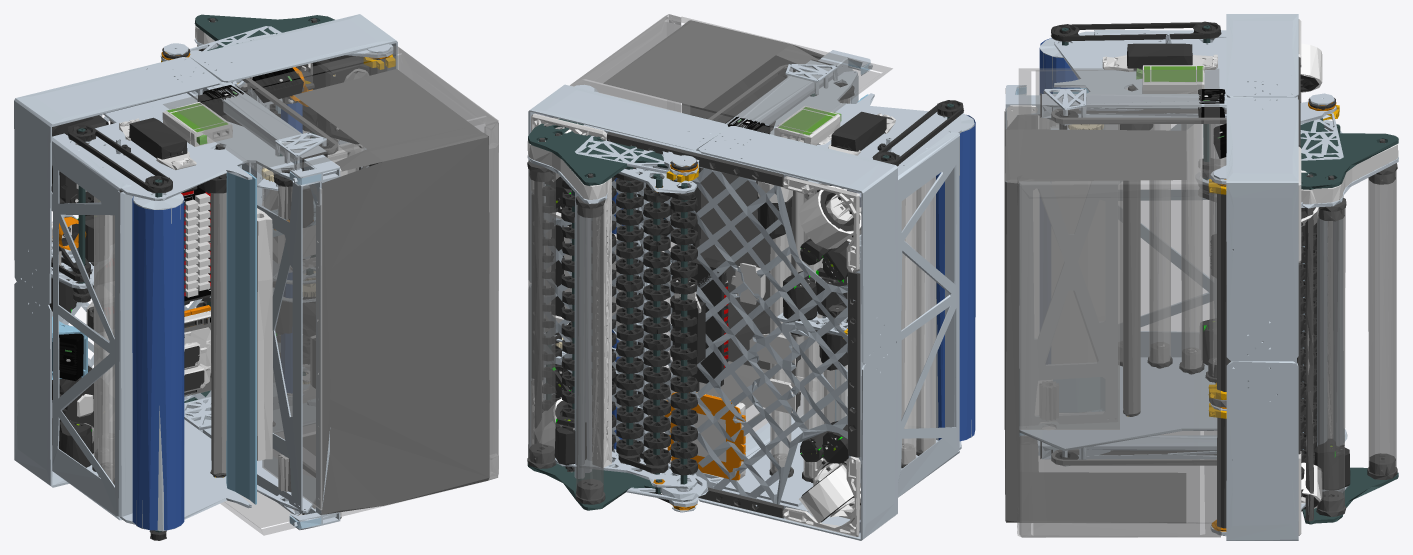
3 renders of one model, left to right at view 1: azimuth 30°, elevation 25°; view 2: azimuth 150°, elevation 25°; view 3: azimuth 270°, elevation 25°, orthographic. The views are drawn at different scales.
Visible parts, largest first — view 1: main_mesh, c0_mesh, c3_mesh, c1_mesh, c2_mesh, c4_mesh; view 2: main_mesh, c4_mesh, c1_mesh, c3_mesh, c0_mesh, c2_mesh; view 3: main_mesh, c3_mesh, c0_mesh, c1_mesh, c2_mesh, c4_mesh.
Boxes of the visible parts, x1=… form: main_mesh: x1=14, y1=14, x2=397, y2=540; c0_mesh: x1=262, y1=69, x2=489, y2=530; c3_mesh: x1=163, y1=46, x2=498, y2=535; c1_mesh: x1=160, y1=14, x2=334, y2=402; c2_mesh: x1=162, y1=26, x2=309, y2=401; c4_mesh: x1=184, y1=68, x2=316, y2=375; main_mesh: x1=528, y1=59, x2=975, y2=540; c4_mesh: x1=534, y1=166, x2=697, y2=493; c1_mesh: x1=527, y1=119, x2=699, y2=512; c3_mesh: x1=570, y1=14, x2=892, y2=449; c0_mesh: x1=603, y1=20, x2=872, y2=431; c2_mesh: x1=574, y1=136, x2=708, y2=503; main_mesh: x1=1019, y1=14, x2=1322, y2=540; c3_mesh: x1=1017, y1=68, x2=1220, y2=537; c0_mesh: x1=1004, y1=85, x2=1186, y2=523; c1_mesh: x1=1300, y1=93, x2=1398, y2=524; c2_mesh: x1=1300, y1=98, x2=1347, y2=492; c4_mesh: x1=1297, y1=120, x2=1350, y2=510.
Size of the model in its own units: 0.6985 by 0.6985 by 0.6927.
